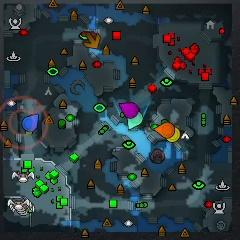p1: (22, 113, 39, 132)
p2: (127, 111, 143, 131)
p3: (119, 103, 139, 118)
p4: (166, 126, 181, 144)
p5: (154, 122, 174, 139)
x5: (84, 32, 101, 49)
